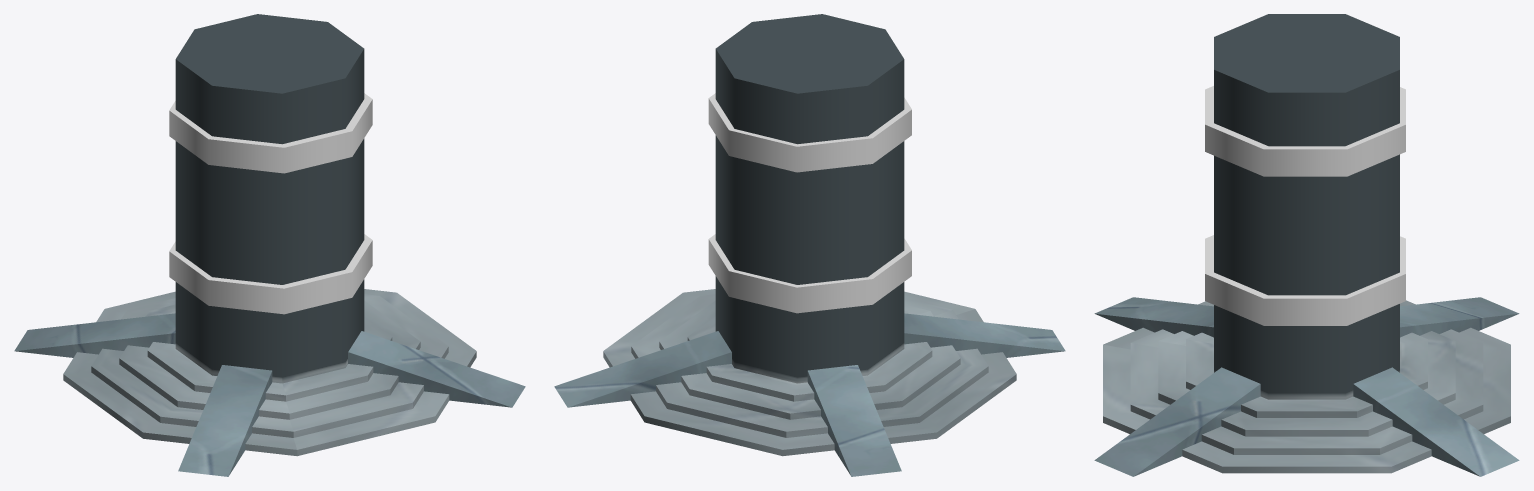
The model's file is storpillar_v2_03.FBX.
3 renders of one model, left to right at view 1: azimuth 30°, elevation 25°; view 2: azimuth 150°, elevation 25°; view 3: azimuth 270°, elevation 25°, orthographic. The views are drawn at different scales.
Visible parts, largest first — view 1: terminal pillar, Cylinder010, Cylinder009; view 2: terminal pillar, Cylinder010, Cylinder009; view 3: terminal pillar, Cylinder009, Cylinder010.
Boxes of the visible parts, box(x1,y1,x2,y2) form: terminal pillar: box(14, 14, 525, 476); Cylinder010: box(169, 93, 372, 173); Cylinder009: box(169, 234, 372, 314); terminal pillar: box(554, 14, 1065, 476); Cylinder010: box(708, 93, 911, 172); Cylinder009: box(708, 234, 911, 313); terminal pillar: box(1094, 14, 1519, 476); Cylinder009: box(1205, 235, 1405, 325); Cylinder010: box(1205, 86, 1405, 176).
Size of the model in its own units: 1155 by 1000 by 1155.
